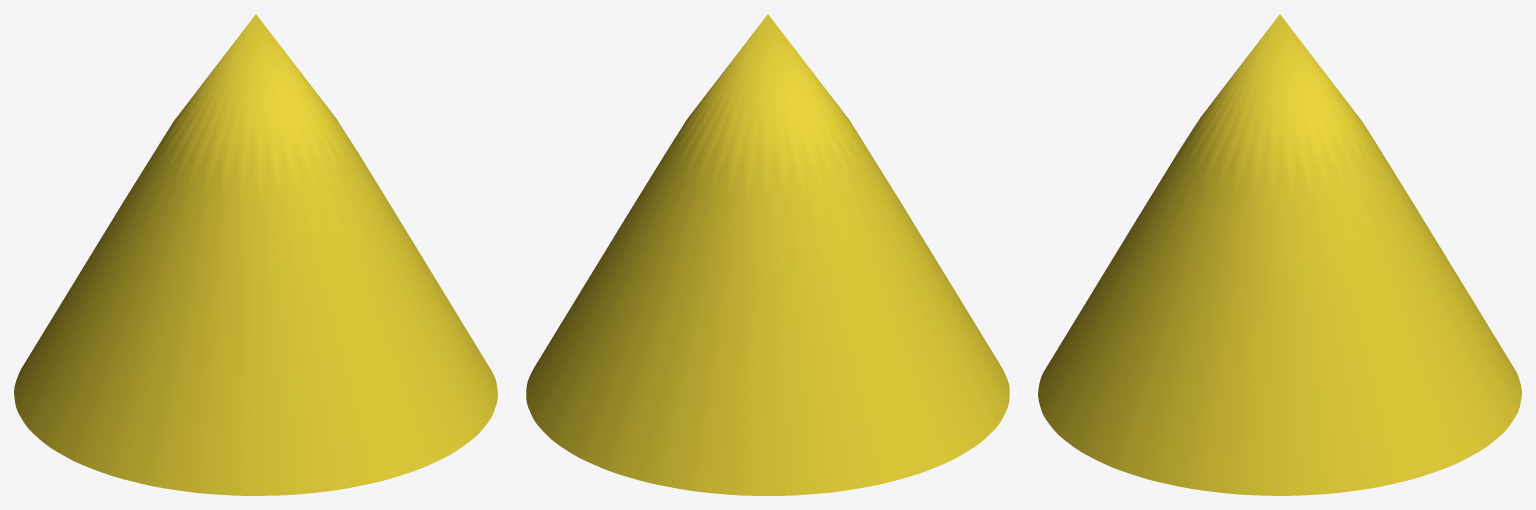
The model's file is rocket head.fbx.
3 renders of one model, left to right at view 1: azimuth 30°, elevation 25°; view 2: azimuth 150°, elevation 25°; view 3: azimuth 270°, elevation 25°, orthographic.
Visible parts, largest first — view 1: Cylinder.002; view 2: Cylinder.002; view 3: Cylinder.002.
Part boxes in pixels (<box>): Cylinder.002: <box>14,14,497,495</box>; Cylinder.002: <box>526,14,1009,495</box>; Cylinder.002: <box>1038,14,1521,495</box>.
Size of the model in its own units: 101 by 87.61 by 101.
